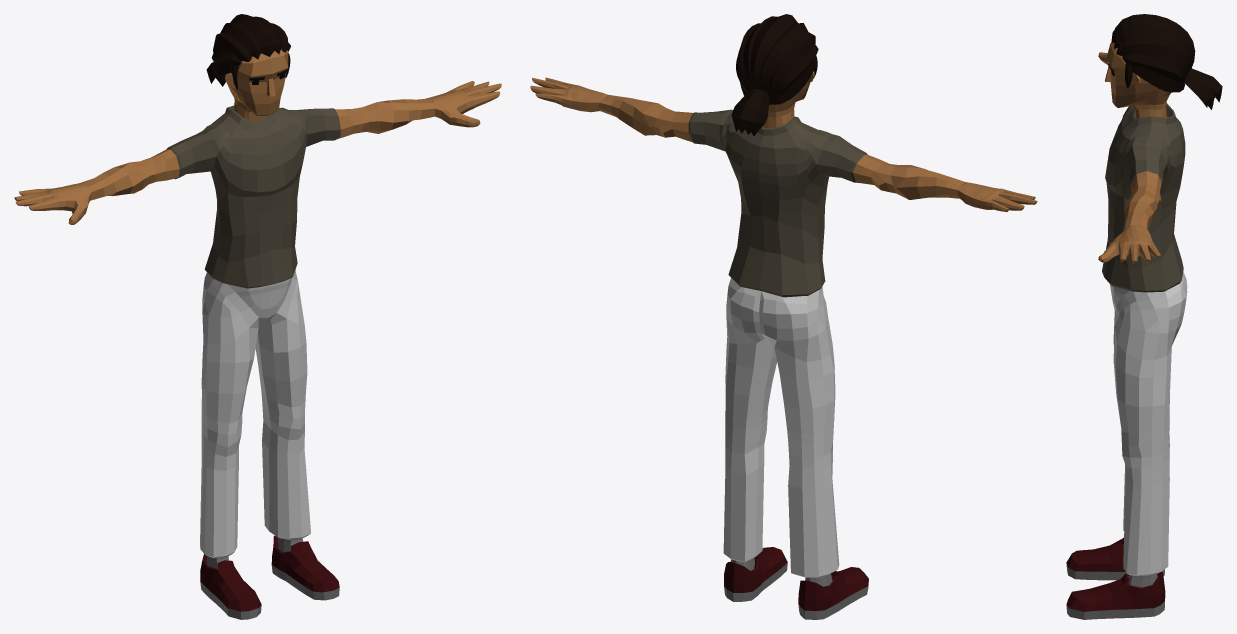
The model's file is casual_2.obj.
The picture shows the model from 3 angles, left to right: view 1: azimuth 30°, elevation 25°; view 2: azimuth 150°, elevation 25°; view 3: azimuth 270°, elevation 25°; orthographic projection. The views are drawn at different scales.
Visible parts, largest first — view 1: Casual2_Body_Cube.010, Casual2_Legs_Cube.019, Casual2_Head_Cube.015, Casual2_Feet_Cube.003; view 2: Casual2_Body_Cube.010, Casual2_Legs_Cube.019, Casual2_Head_Cube.015, Casual2_Feet_Cube.003; view 3: Casual2_Legs_Cube.019, Casual2_Body_Cube.010, Casual2_Head_Cube.015, Casual2_Feet_Cube.003.
Boxes of the visible parts, x1,y1,x2,y2 form: Casual2_Body_Cube.010: [14, 81, 501, 288]; Casual2_Legs_Cube.019: [200, 270, 310, 558]; Casual2_Head_Cube.015: [206, 14, 290, 120]; Casual2_Feet_Cube.003: [200, 535, 339, 619]; Casual2_Body_Cube.010: [530, 77, 1037, 297]; Casual2_Legs_Cube.019: [723, 278, 839, 577]; Casual2_Head_Cube.015: [731, 14, 818, 136]; Casual2_Feet_Cube.003: [724, 547, 868, 619]; Casual2_Legs_Cube.019: [1110, 272, 1187, 576]; Casual2_Body_Cube.010: [1098, 52, 1185, 292]; Casual2_Head_Cube.015: [1105, 14, 1222, 118]; Casual2_Feet_Cube.003: [1066, 537, 1165, 619].
Size of the model in its own units: 1.68 by 1.86 by 0.4547.
